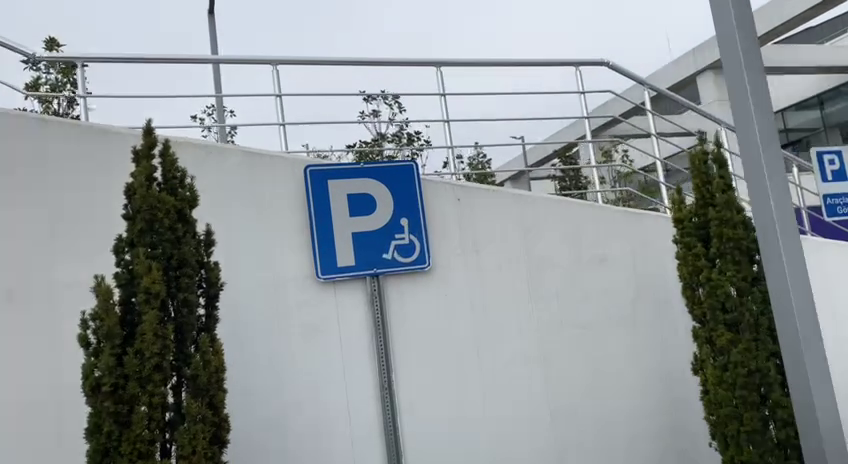parking: (303, 157, 432, 282), (814, 147, 848, 185)
